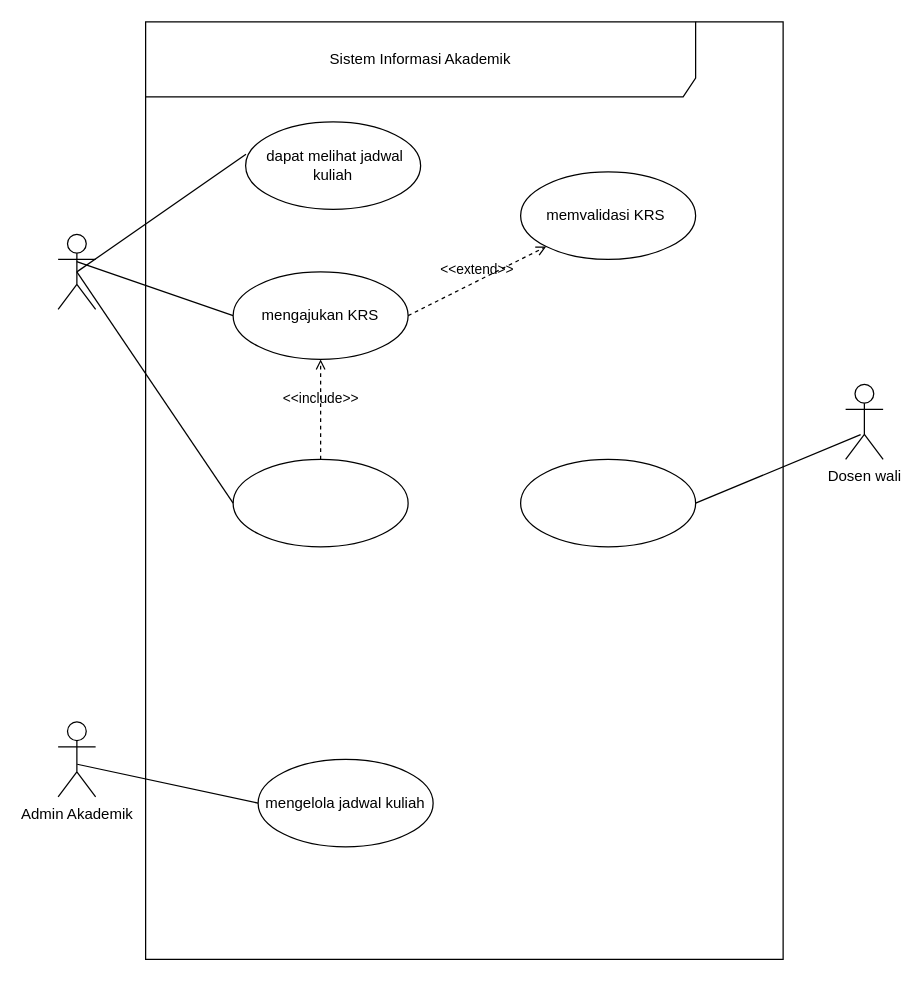
This 923x981 diagram has some shape labels left out. Here are the shapes that lost their labels. From the top down, the centre of each, then its label:
(76,271): Mahasiswa
(320,502): mengunduh bukt Pengajuan
(607,502): memproses persetujua
